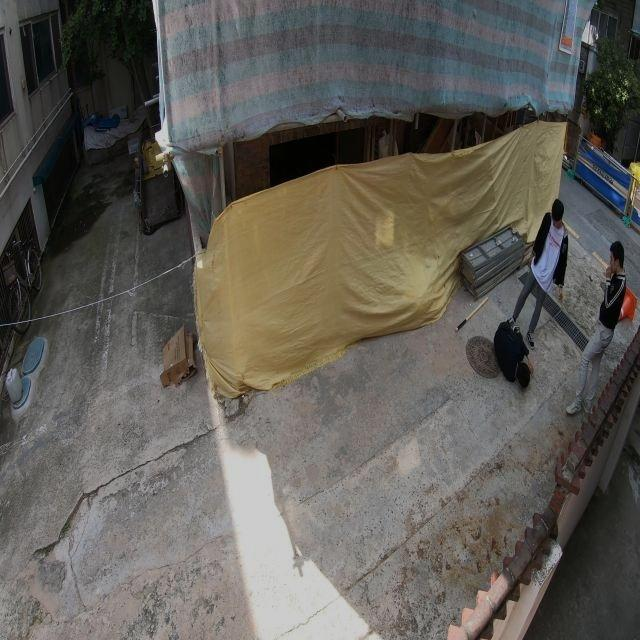fight: (490, 197, 573, 391)
non-fight: (566, 236, 639, 420)
